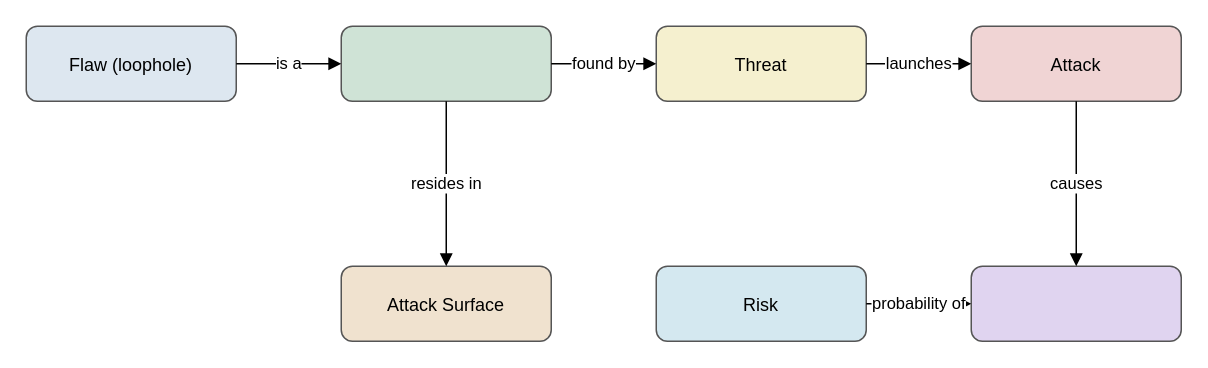
The diagram is 1208 pixels wide and 368 high, and some of its shapes have lost their labels. Here are the shapes that lost their labels. From the top down, the centre of each, then its label:
(x=445, y=63): Vulnerability
(x=1075, y=303): Exploitation
